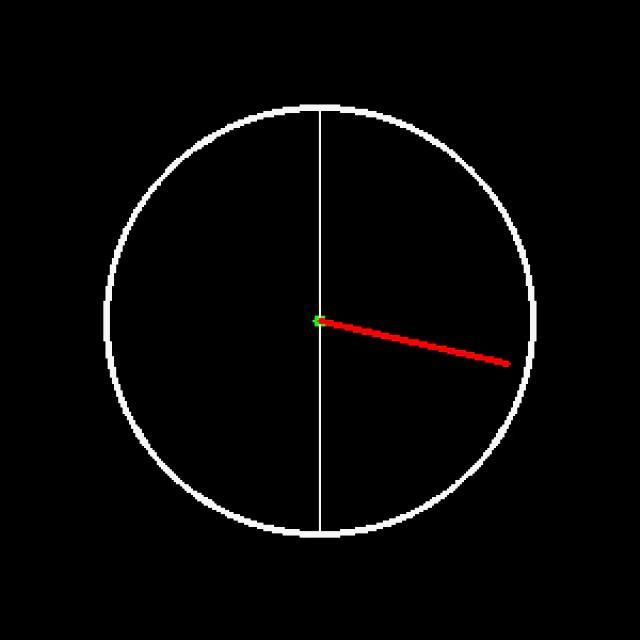Needle_Tip: (478, 309, 528, 416)
Needle_base: (279, 291, 358, 344)
